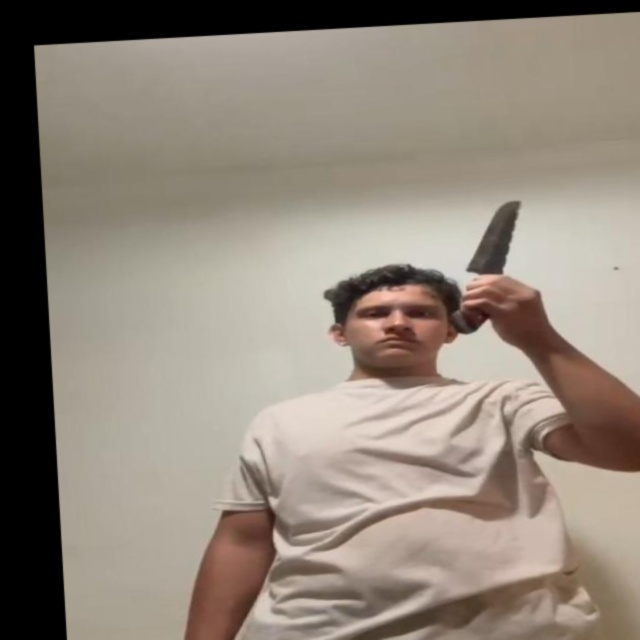Sharp-Object: (465, 199, 526, 279)
